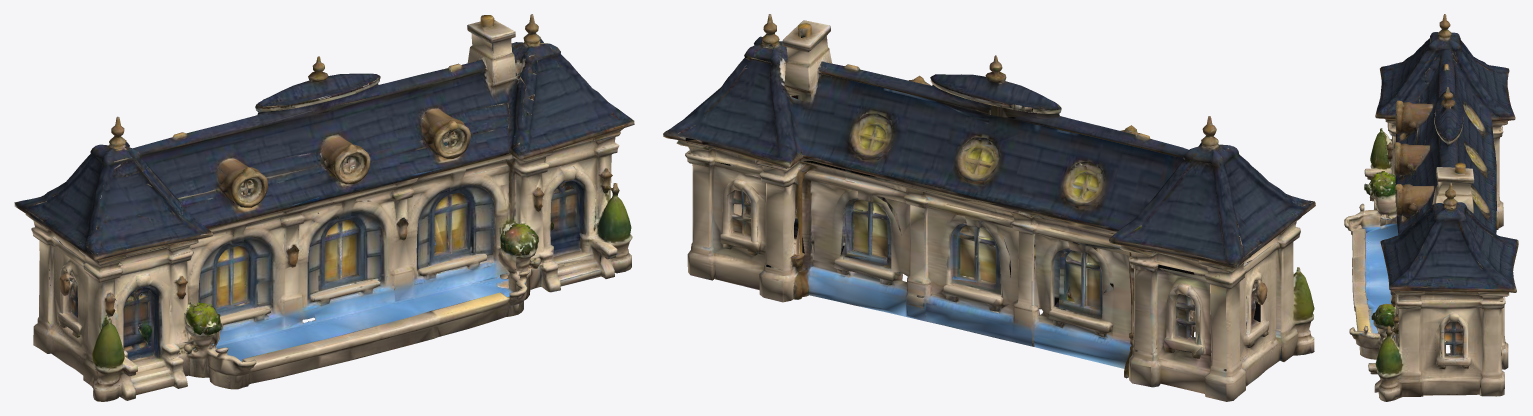
The picture shows the model from 3 angles, left to right: view 1: azimuth 30°, elevation 25°; view 2: azimuth 150°, elevation 25°; view 3: azimuth 270°, elevation 25°; orthographic projection. The views are drawn at different scales.
Visible parts, largest first — view 1: classic__onsen_1__neural_lod; view 2: classic__onsen_1__neural_lod; view 3: classic__onsen_1__neural_lod.
Part boxes in pixels (bbox=[...]): classic__onsen_1__neural_lod: bbox=[14, 14, 634, 401]; classic__onsen_1__neural_lod: bbox=[663, 14, 1315, 401]; classic__onsen_1__neural_lod: bbox=[1344, 14, 1518, 401].
Bounding box in the file's own units: 0.9986 × 0.4508 × 0.3357.
Materials: 1 (1 with a texture image).
